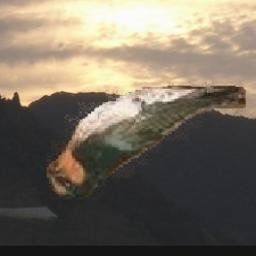Swallow: (48, 82, 247, 199)
